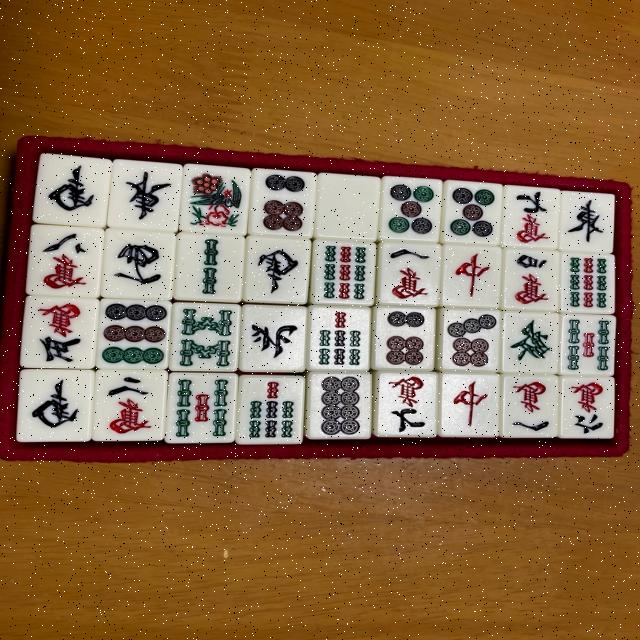bamboos_2: (171, 235, 245, 304)
bamboos_5: (162, 372, 240, 444), (558, 312, 616, 377)
bamboos_7: (234, 374, 308, 443), (304, 305, 378, 374)
bamboos_8: (167, 304, 241, 374)
bamboos_9: (307, 237, 382, 306), (560, 251, 615, 315)
characters_1: (375, 240, 442, 308), (499, 373, 559, 439)
characters_2: (91, 370, 167, 443)
characters_4: (501, 245, 561, 313)
characters_5: (17, 296, 101, 368)
characters_6: (557, 376, 615, 440)
characters_7: (370, 368, 444, 438), (502, 185, 561, 250)
characters_8: (25, 226, 106, 300)
circles_1: (178, 164, 252, 234)
circles_5: (440, 180, 504, 247), (379, 175, 442, 242)
circles_6: (244, 168, 319, 237), (369, 304, 437, 374)
circles_7: (437, 307, 503, 373)
circles_8: (302, 372, 377, 442)
circles_9: (95, 298, 173, 371)
east: (107, 159, 184, 234), (562, 188, 617, 255)
green: (500, 309, 562, 376)
north: (238, 303, 312, 373)
red: (438, 242, 503, 310), (439, 370, 500, 438)
south: (32, 151, 111, 230), (16, 369, 94, 442), (237, 236, 312, 306)
west: (99, 228, 178, 303)
white: (312, 170, 386, 239)
